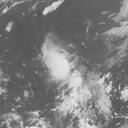cyclone: (38, 35, 111, 124)
